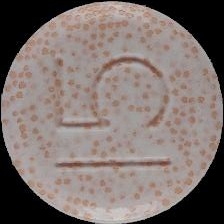64764-543: (0, 0, 224, 224)
